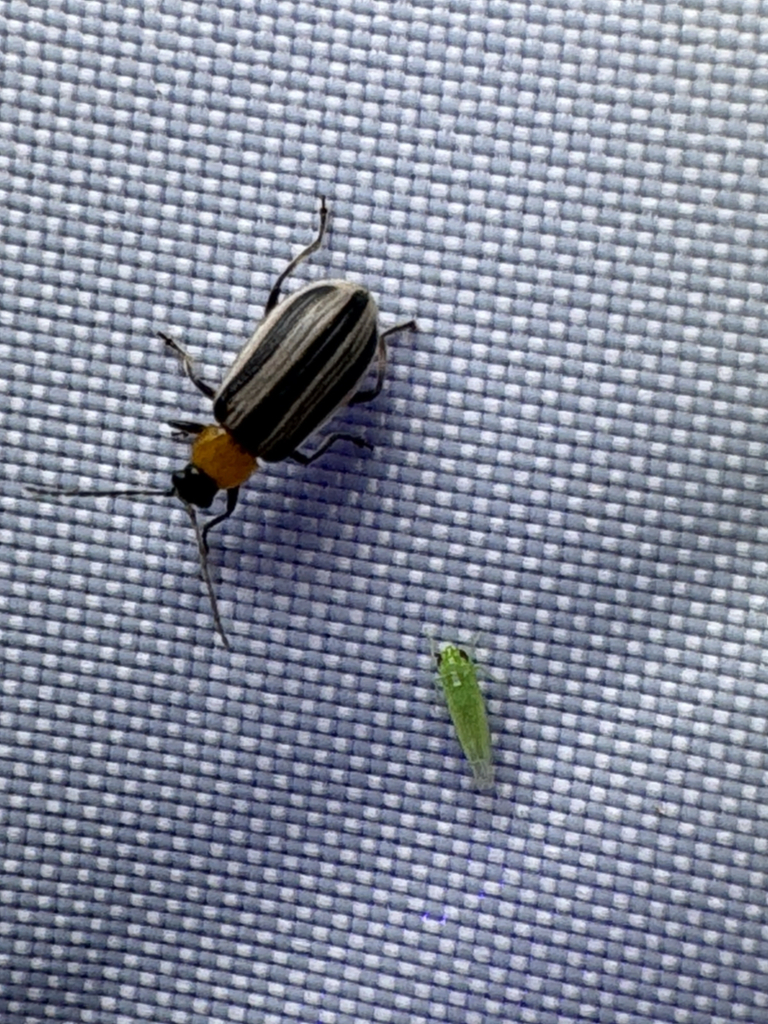potato_beetle: (16, 117, 521, 707)
